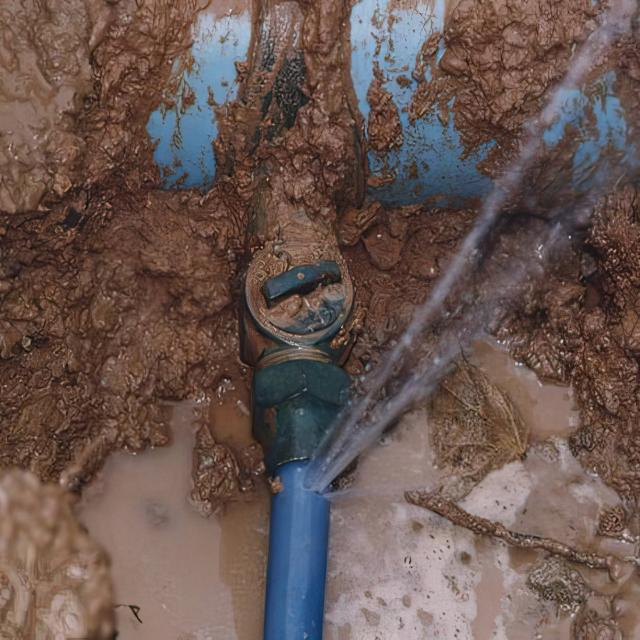leak: (305, 0, 638, 491)
